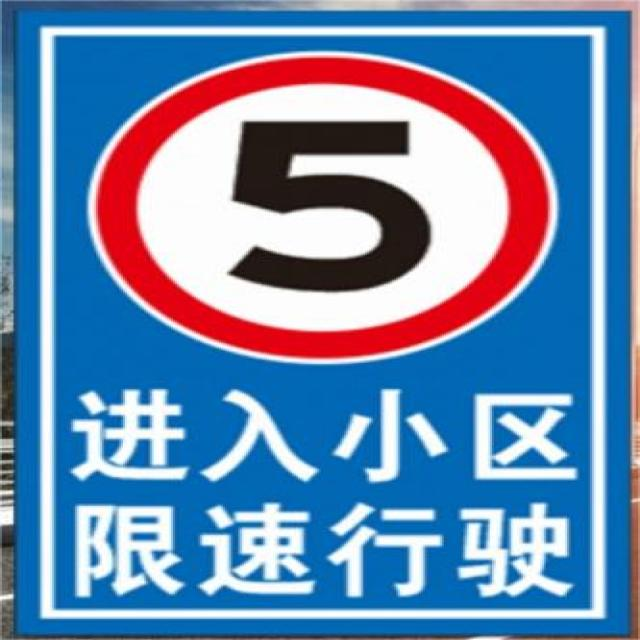speed limit 10: (84, 50, 562, 366)
